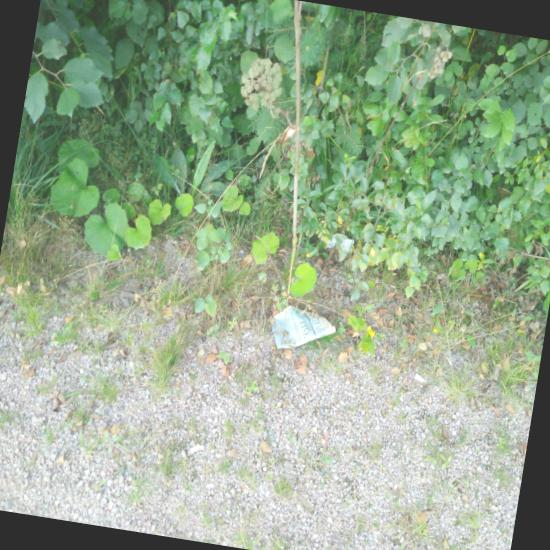Unlabeled litter: (192, 377, 284, 546), (100, 347, 151, 512), (183, 204, 245, 339), (138, 188, 178, 333), (163, 378, 204, 502)
